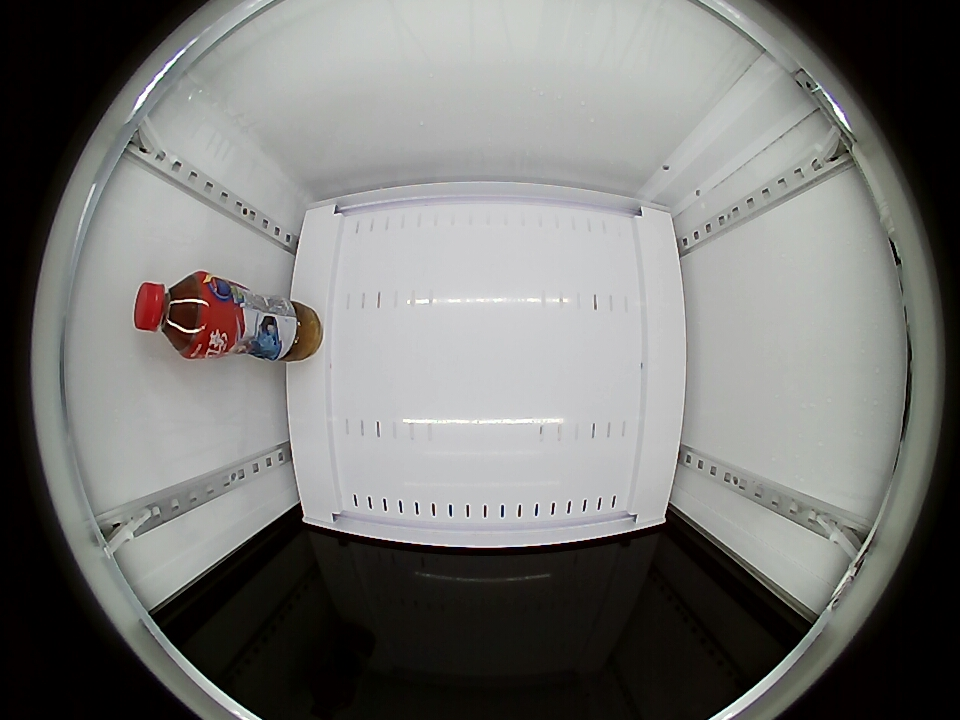binghongcha: (133, 270, 218, 359)
